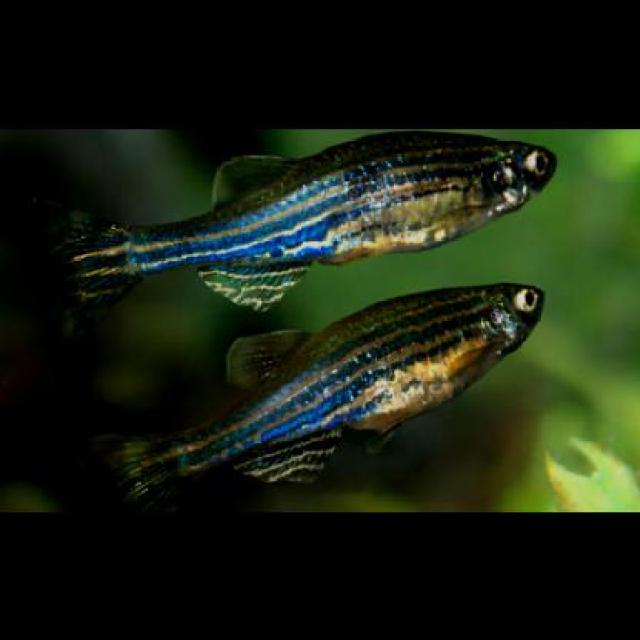ZebraFish: (37, 128, 560, 355), (71, 282, 547, 509)
